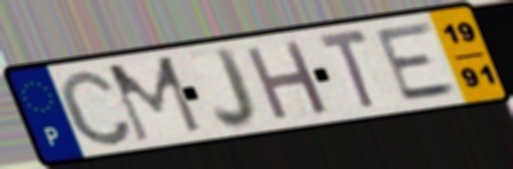C: (54, 66, 138, 149)
E: (372, 19, 463, 105)
H: (241, 37, 333, 124)
J: (211, 45, 262, 132)
M: (103, 53, 206, 146)
T: (314, 26, 379, 114)
